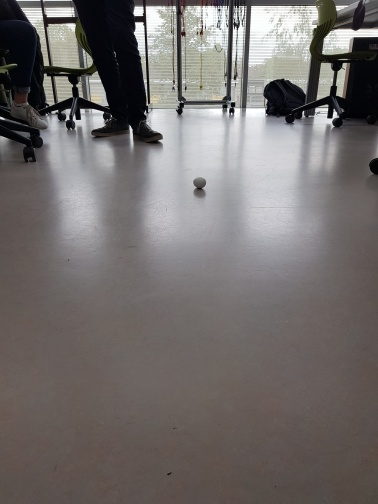egg: (192, 175, 209, 190)
